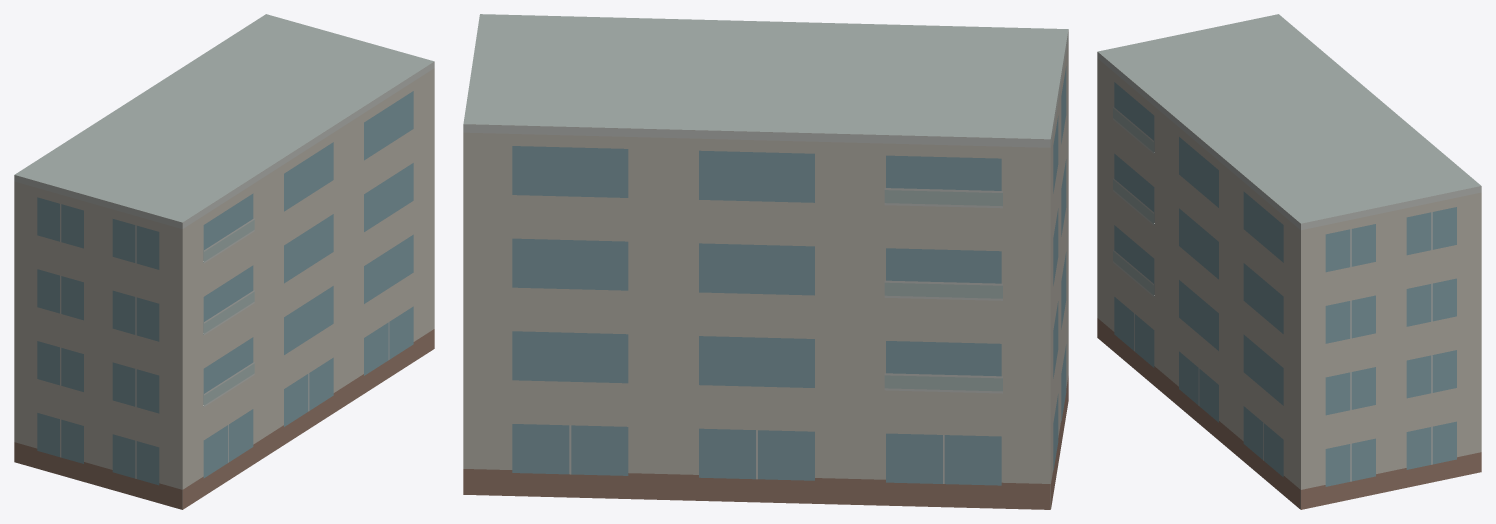
The model's file is survey-upis-32891445.glb.
3 renders of one model, left to right at view 1: azimuth 30°, elevation 25°; view 2: azimuth 150°, elevation 25°; view 3: azimuth 270°, elevation 25°, orthographic. The views are drawn at different scales.
Visible parts, largest first — view 1: survey-upis-32891445.tmp; view 2: survey-upis-32891445.tmp; view 3: survey-upis-32891445.tmp.
Part boxes in pixels (x1,y1,x2,y2): survey-upis-32891445.tmp: [14, 14, 434, 509]; survey-upis-32891445.tmp: [463, 14, 1068, 509]; survey-upis-32891445.tmp: [1097, 14, 1481, 509].
Bounding box in the file's own units: 16.67 × 10.6 × 12.9.
